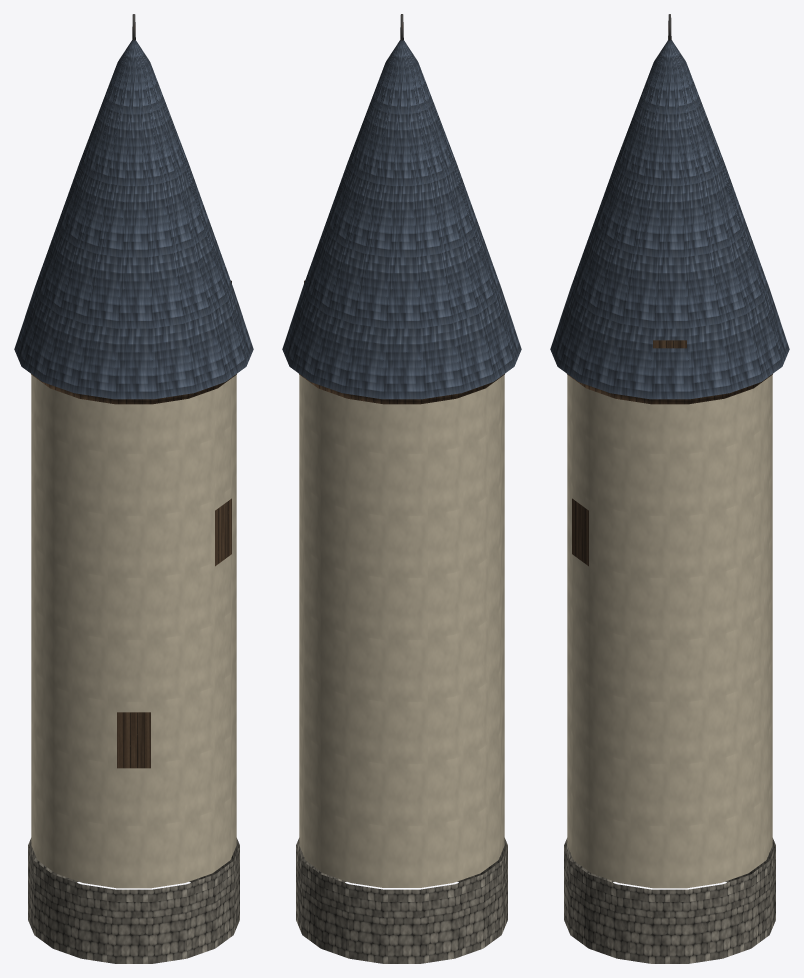
The model's file is Turret_Corner_1.gltf.
3 views of the same model, side by side, from view 1: azimuth 30°, elevation 25°; view 2: azimuth 150°, elevation 25°; view 3: azimuth 270°, elevation 25° (orthographic).
Visible parts, largest first — view 1: Turret_Corner_1; view 2: Turret_Corner_1; view 3: Turret_Corner_1.
Boxes of the visible parts, x1,y1,x2,y2 form: Turret_Corner_1: [14, 14, 253, 963]; Turret_Corner_1: [282, 14, 521, 963]; Turret_Corner_1: [550, 14, 789, 963].
Bounding box in the file's own units: 3.45 × 14.6 × 3.5.
Materials: 5 (5 with a texture image).
